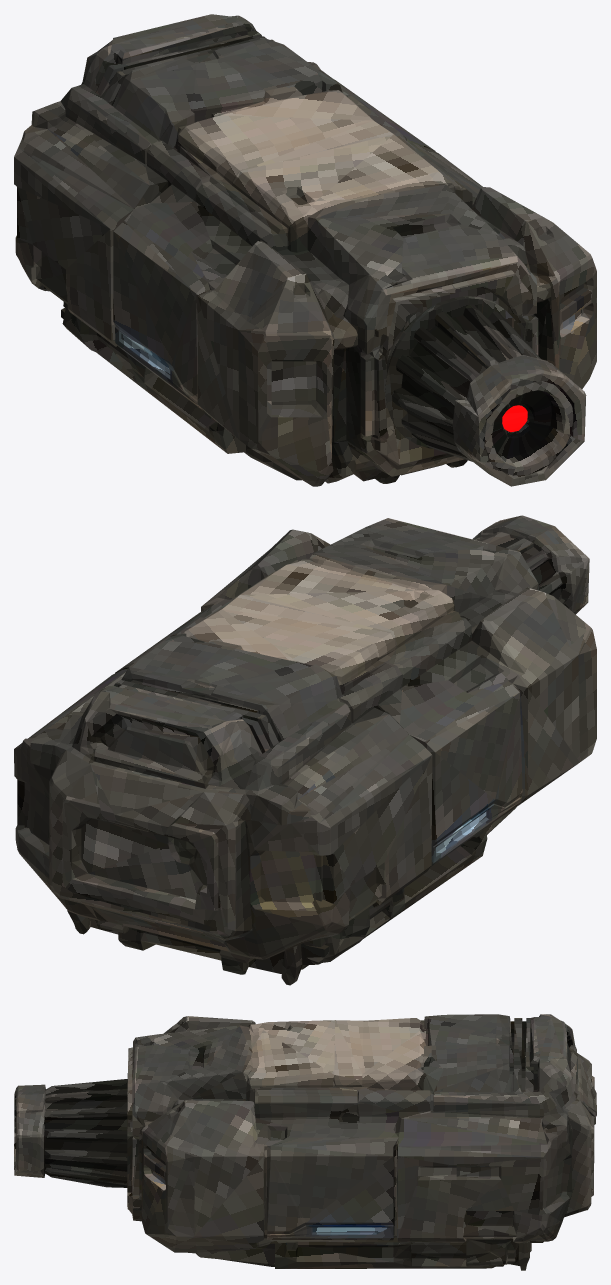
The model's file is drone_laser_module_v001.glb.
3 renders of one model, top to bottom at view 1: azimuth 30°, elevation 25°; view 2: azimuth 150°, elevation 25°; view 3: azimuth 270°, elevation 25°, orthographic. The views are drawn at different scales.
Parts seen in each view (by area): view 1: Drone_Laser_Cannon; view 2: Drone_Laser_Cannon; view 3: Drone_Laser_Cannon.
Boxes of the visible parts, <box> form: Drone_Laser_Cannon: <box>14,14,596,486</box>; Drone_Laser_Cannon: <box>14,515,596,985</box>; Drone_Laser_Cannon: <box>14,1014,596,1270</box>.
Bounding box in the file's own units: 0.5354 × 0.4019 × 1.09.
Materials: 2 (1 with a texture image).
